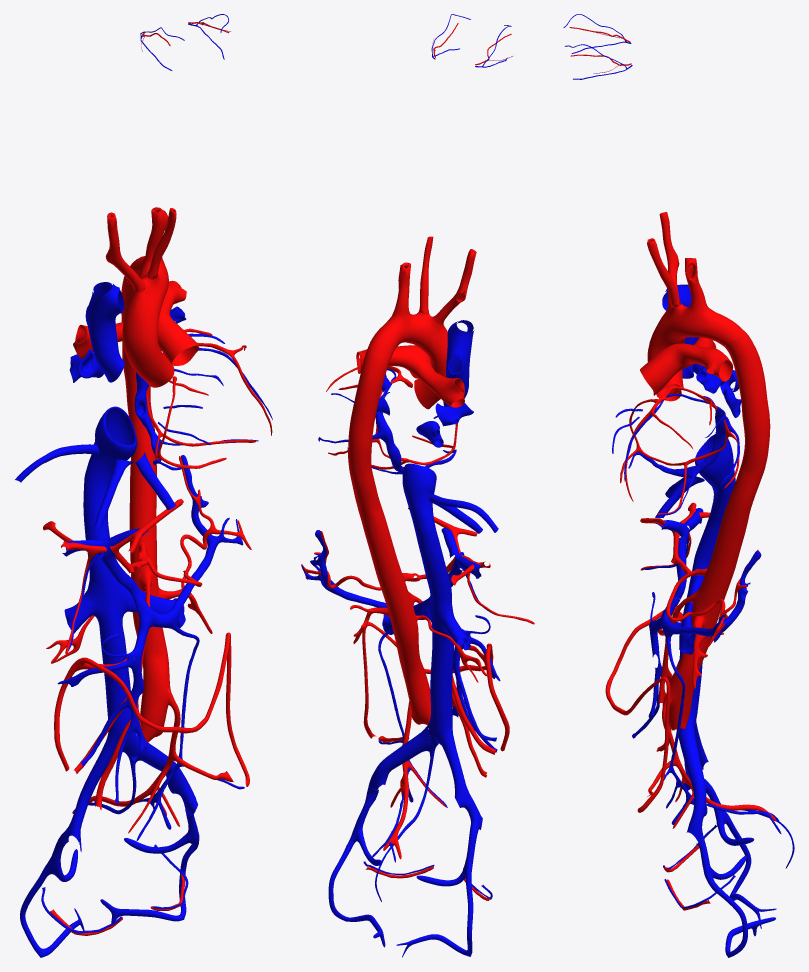
Rendered from vasculature-female.glb.
3 views of the same model, side by side, from view 1: azimuth 30°, elevation 25°; view 2: azimuth 150°, elevation 25°; view 3: azimuth 270°, elevation 25° (orthographic). The views are drawn at different scales.
Visible parts, largest first — view 1: VH_F_left_uterine_vein, VH_F_left_uterine_artery, VH_F_inferior_ophthalmic_vein_L, VH_F_central_retinal_artery_R; view 2: VH_F_left_uterine_vein, VH_F_left_uterine_artery, VH_F_central_retinal_artery_R, VH_F_inferior_ophthalmic_vein_L; view 3: VH_F_left_uterine_artery, VH_F_left_uterine_vein, VH_F_central_retinal_artery_R, VH_F_inferior_ophthalmic_vein_L.
Boxes of the visible parts, left/top/right/bottom form: VH_F_left_uterine_vein: left=15, top=282, right=272, bottom=957; VH_F_left_uterine_artery: left=43, top=207, right=272, bottom=935; VH_F_inferior_ophthalmic_vein_L: left=83, top=14, right=229, bottom=752; VH_F_central_retinal_artery_R: left=121, top=22, right=230, bottom=742; VH_F_left_uterine_vein: left=301, top=320, right=523, bottom=957; VH_F_left_uterine_artery: left=301, top=236, right=534, bottom=900; VH_F_central_retinal_artery_R: left=348, top=23, right=512, bottom=725; VH_F_inferior_ophthalmic_vein_L: left=402, top=14, right=511, bottom=745; VH_F_left_uterine_artery: left=605, top=212, right=776, bottom=910; VH_F_left_uterine_vein: left=612, top=284, right=794, bottom=957; VH_F_central_retinal_artery_R: left=569, top=27, right=770, bottom=730; VH_F_inferior_ophthalmic_vein_L: left=563, top=14, right=735, bottom=725.
Size of the model in its own units: 0.1927 by 0.799 by 0.1848.
